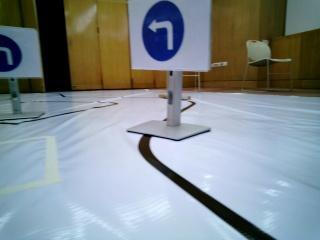left: (134, 1, 199, 71)
